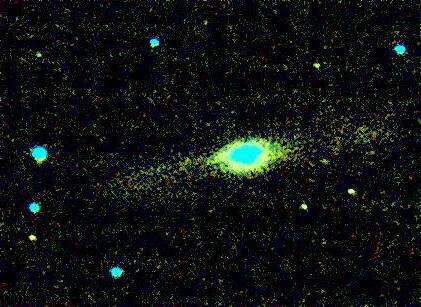star: (310, 144, 340, 174)
